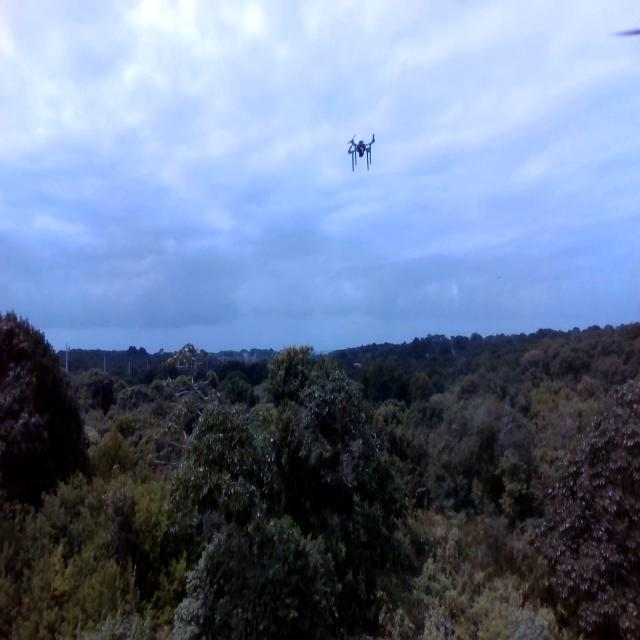-uav-: (344, 129, 382, 179)
